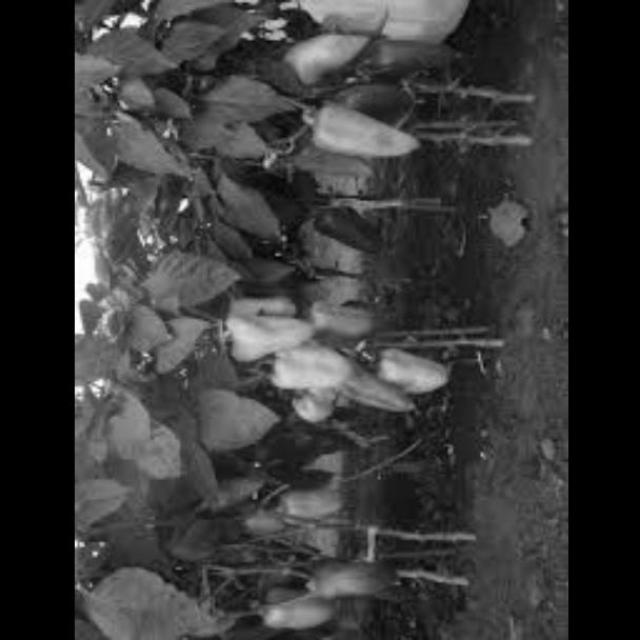ot chuong: (345, 24, 472, 88), (242, 481, 342, 548), (272, 28, 372, 94), (258, 338, 358, 398), (301, 111, 415, 163), (321, 365, 420, 420), (308, 560, 409, 606), (246, 580, 341, 628), (374, 351, 458, 403), (268, 147, 380, 186), (221, 315, 307, 365), (306, 204, 382, 257), (327, 84, 410, 131), (297, 297, 370, 349), (318, 1, 394, 41), (219, 286, 293, 322), (287, 377, 340, 427)
